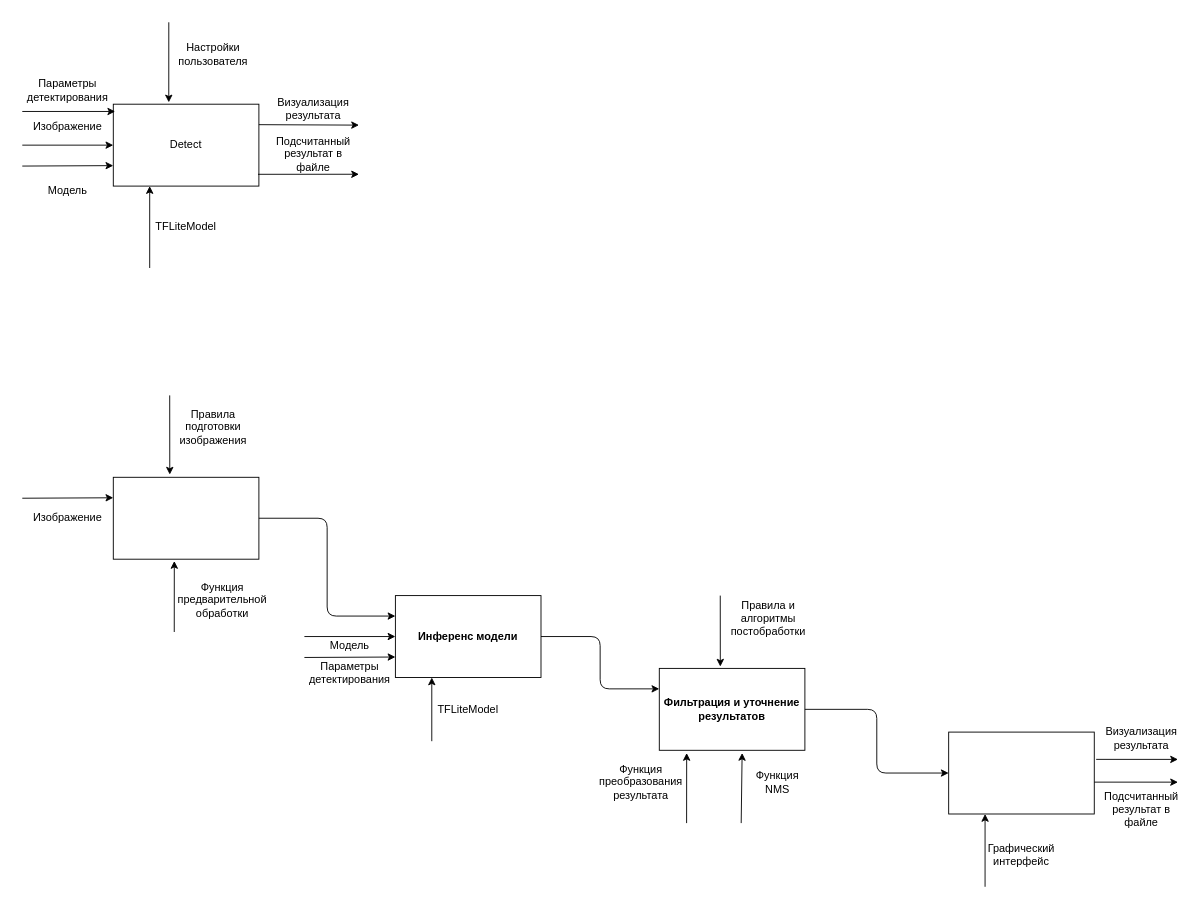
The diagram is 1201 pixels wide and 910 high, and some of its shapes have lost their labels. Each missing label, with the centre of its shape:
"Вывод результата" belongs at point (1021, 772).
"Загрузка и подготовка изображения" belongs at point (185, 517).
